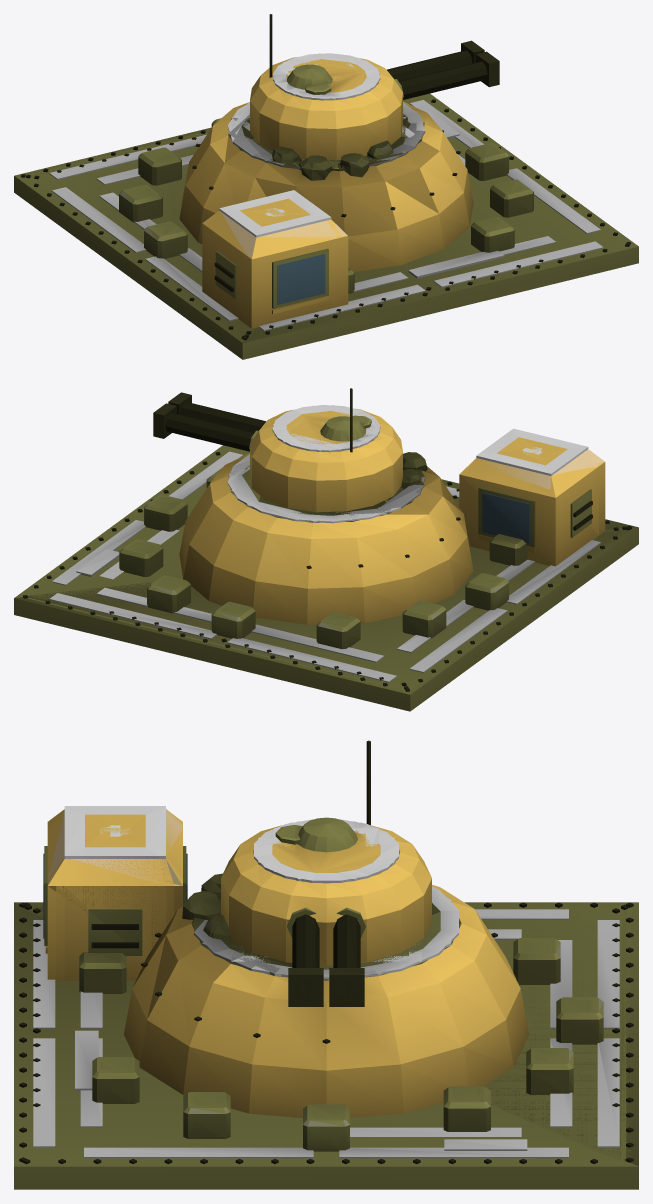
The model's file is meridian_advanced_defences_damaged.glb.
The picture shows the model from 3 angles, top to bottom: view 1: azimuth 30°, elevation 25°; view 2: azimuth 150°, elevation 25°; view 3: azimuth 270°, elevation 25°; orthographic projection. The views are drawn at different scales.
Visible parts, largest first — view 1: body (×3), turret (×2), barrel; view 2: body (×3), turret (×3), barrel; view 3: body (×3), turret (×2), barrel.
Part boxes in pixels (x1=…): body (×3): x1=14, y1=93, x2=638, y2=359; turret (×2): x1=250, y1=14, x2=402, y2=160; barrel: x1=387, y1=40, x2=499, y2=99; body (×3): x1=14, y1=428, x2=638, y2=711; turret (×3): x1=250, y1=388, x2=402, y2=512; barrel: x1=153, y1=392, x2=265, y2=451; body (×3): x1=14, y1=806, x2=638, y2=1189; turret (×2): x1=221, y1=740, x2=431, y2=965; barrel: x1=287, y1=907, x2=365, y2=1006.
Bounding box in the file's own units: 7.4 × 3.78 × 7.4.
